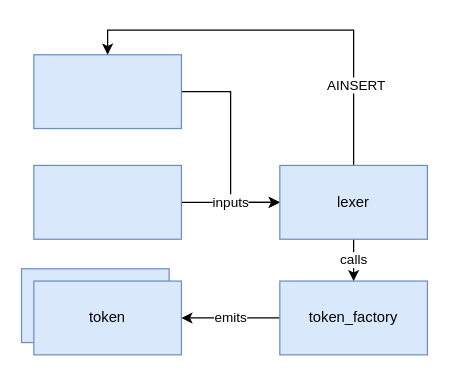
Image size: 449x376. Some labels were removed from this diagram. Here are the shapes that lost their labels. From the top down, the centre of each, then its label:
At (x=107, y=91): "input_source (AINSERT buffer)".
At (x=107, y=201): "input_source (main source)".
